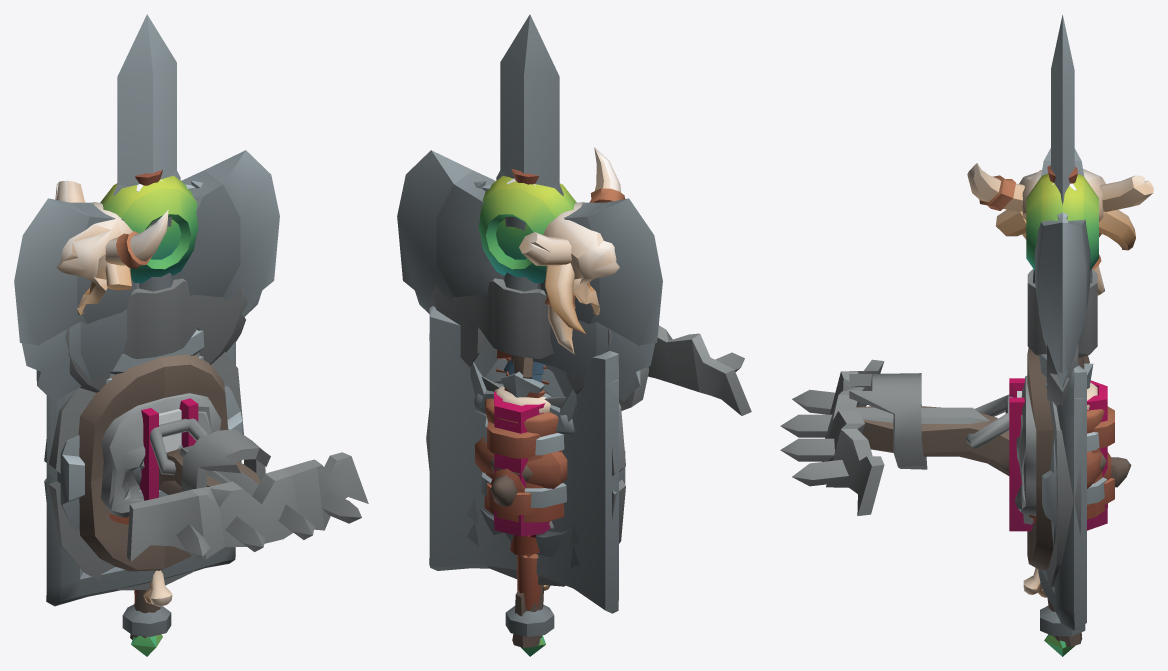
The model's file is weapons.glb.
3 views of the same model, side by side, from view 1: azimuth 30°, elevation 25°; view 2: azimuth 150°, elevation 25°; view 3: azimuth 270°, elevation 25° (orthographic).
Visible parts, largest first — view 1: axe_2handed, Skeleton_Crossbow, Skeleton_Shield_Large_A, sword_2handed, Skeleton_Axe, staff, Skeleton_Staff, shield_square, axe_1handed, Skeleton_Shield_Small_A, spellbook_closed, shield_badge_color; view 2: shield_square, axe_2handed, sword_2handed, Skeleton_Staff, staff, Skeleton_Axe, Skeleton_Crossbow, spellbook_closed, axe_1handed, mug_full, Skeleton_Shield_Large_A, Skeleton_Shield_Small_A (+4 smaller); view 3: Skeleton_Crossbow, Skeleton_Shield_Large_A, axe_2handed, Skeleton_Staff, shield_square, staff, spellbook_closed, sword_2handed, Skeleton_Axe, mug_full, shield_badge_color, Skeleton_Shield_Small_A.
Part boxes in pixels (<box>): axe_2handed: <box>14,150,279,346</box>; Skeleton_Crossbow: <box>127,418,368,561</box>; Skeleton_Shield_Large_A: <box>44,352,243,590</box>; sword_2handed: <box>117,14,176,186</box>; Skeleton_Axe: <box>65,278,247,392</box>; staff: <box>100,176,202,656</box>; Skeleton_Staff: <box>55,180,172,639</box>; shield_square: <box>46,330,235,606</box>; axe_1handed: <box>21,283,139,400</box>; Skeleton_Shield_Small_A: <box>57,386,242,530</box>; spellbook_closed: <box>139,398,198,500</box>; shield_badge_color: <box>46,345,235,568</box>; shield_square: <box>429,306,618,613</box>; axe_2handed: <box>397,150,662,555</box>; sword_2handed: <box>470,14,576,538</box>; Skeleton_Staff: <box>512,147,624,647</box>; staff: <box>474,176,576,656</box>; Skeleton_Axe: <box>429,278,611,398</box>; Skeleton_Crossbow: <box>490,325,751,506</box>; spellbook_closed: <box>487,391,550,536</box>; axe_1handed: <box>511,283,655,400</box>; mug_full: <box>481,386,566,522</box>; Skeleton_Shield_Large_A: <box>426,403,625,586</box>; Skeleton_Shield_Small_A: <box>479,359,625,557</box>; Skeleton_Crossbow: <box>780,359,1131,515</box>; Skeleton_Shield_Large_A: <box>1015,348,1102,588</box>; axe_2handed: <box>1033,148,1092,387</box>; Skeleton_Staff: <box>967,163,1153,646</box>; shield_square: <box>1038,354,1086,631</box>; staff: <box>1026,173,1098,656</box>; spellbook_closed: <box>1009,378,1114,531</box>; sword_2handed: <box>1051,15,1093,388</box>; Skeleton_Axe: <box>1027,268,1097,406</box>; mug_full: <box>1029,382,1107,519</box>; shield_badge_color: <box>1045,383,1086,572</box>; Skeleton_Shield_Small_A: <box>1042,437,1056,545</box>.
Size of the model in its own units: 1.24 by 2.86 by 1.51.
5 materials, 5 textured.
